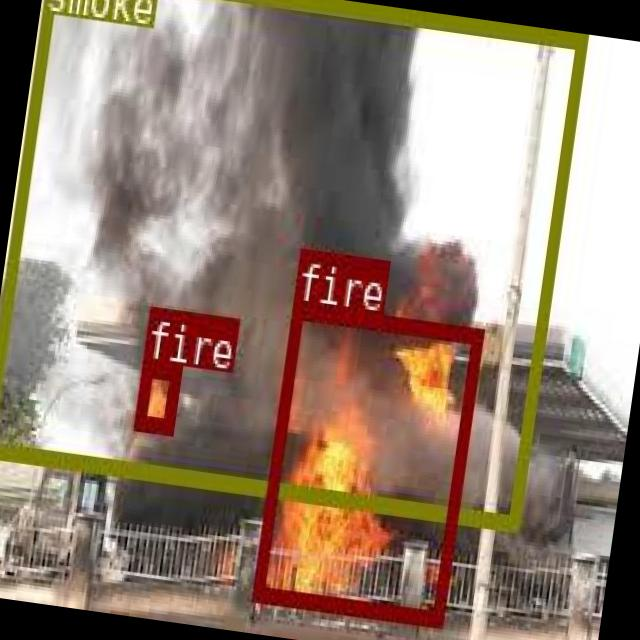fire: (252, 302, 482, 626), (132, 358, 180, 432)
smoke: (0, 0, 585, 526)
